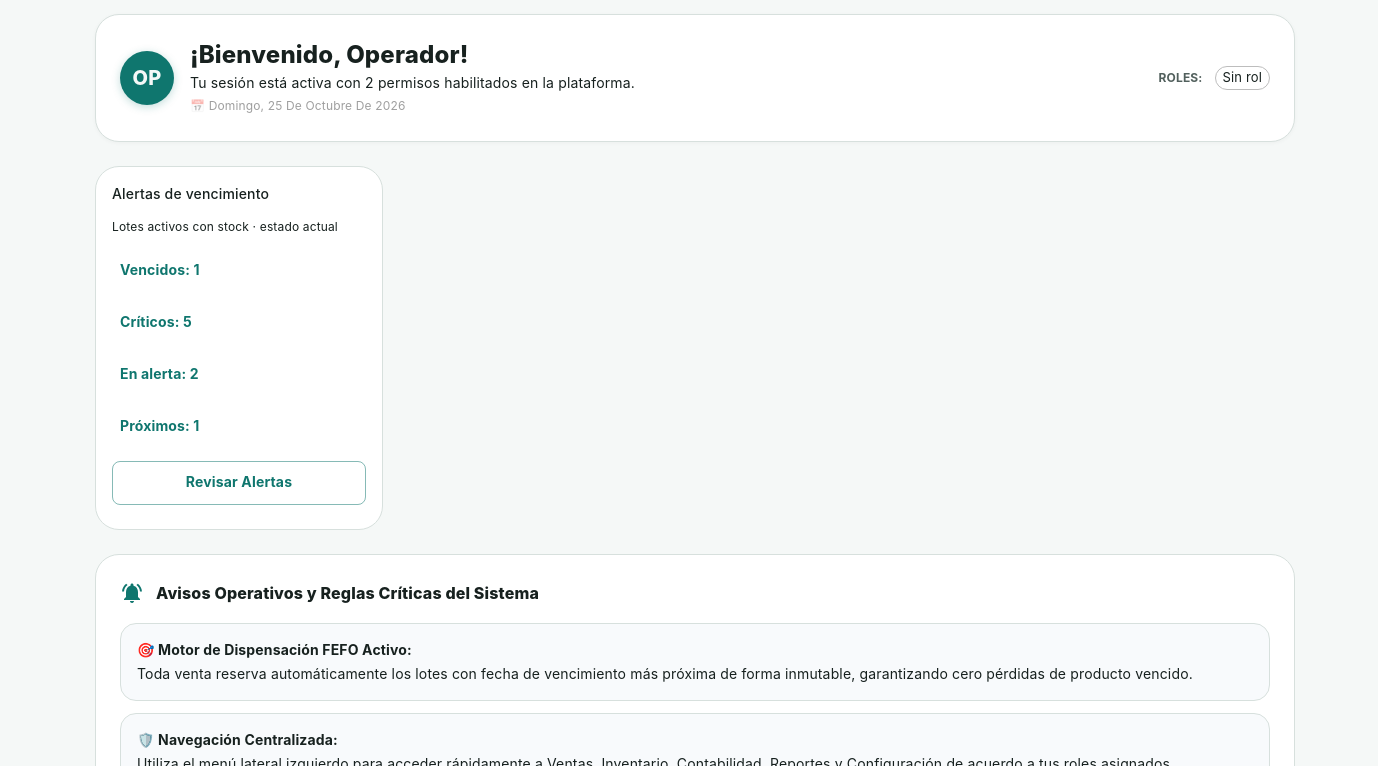
Test: Panel T-02 › clic en contador crítico navega con severidad
The width and height of the screenshot is (1378, 766).
Click the link "Críticos: 5". click: [156, 322]
box: x1=120 y1=313 x2=192 y2=330
(page scrolled)
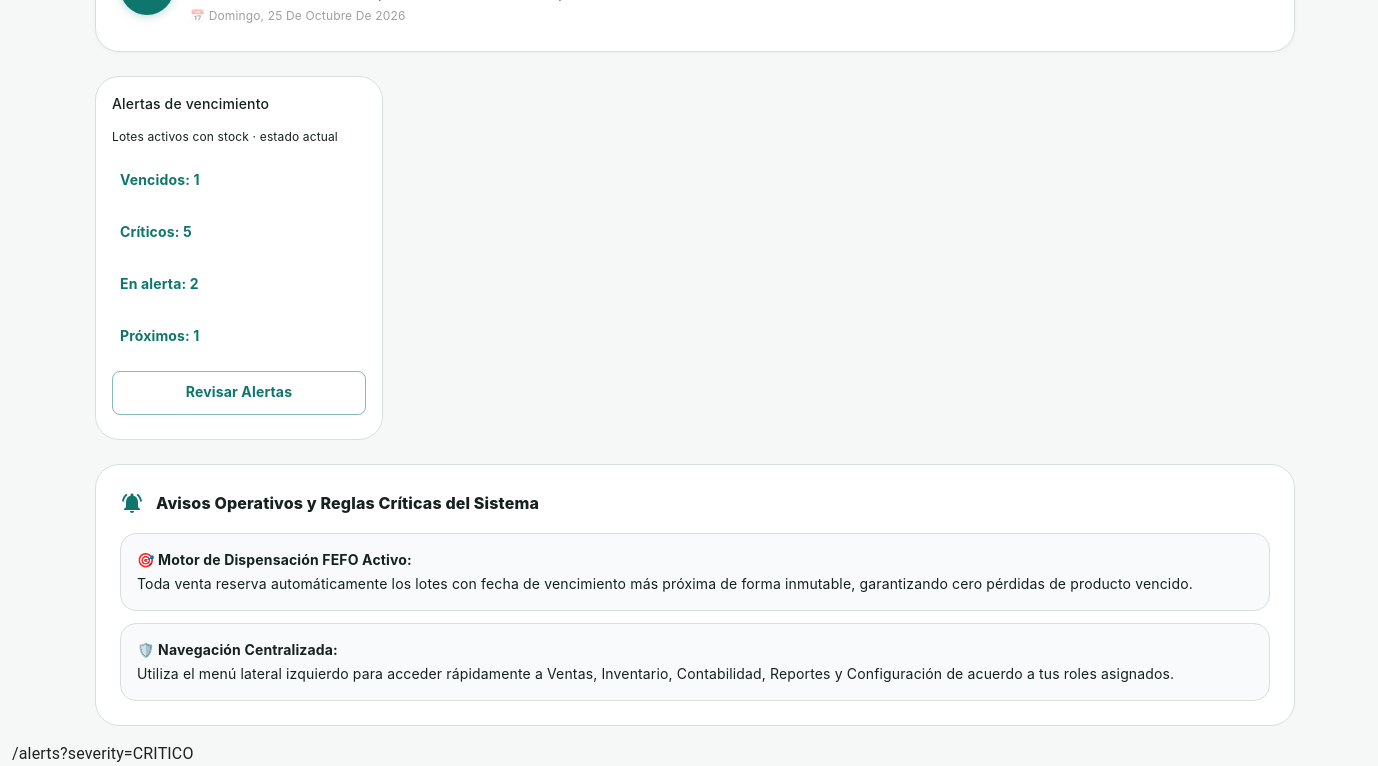
Now the text named "Ubicación" reads "/alerts?severity=CRITICO", box x1=12 y1=744 x2=194 y2=763
